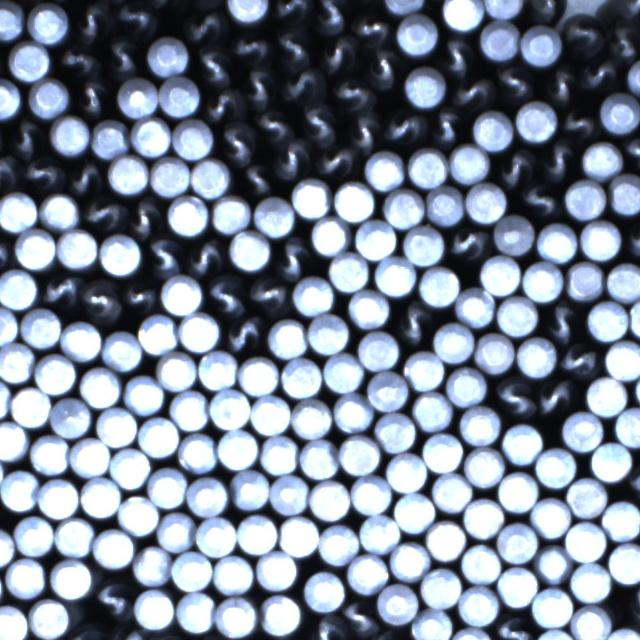tool: (104, 329, 146, 372), (27, 597, 70, 639), (186, 474, 229, 516), (565, 178, 608, 220), (419, 264, 462, 306), (493, 214, 536, 256), (521, 259, 563, 301), (515, 100, 557, 142), (579, 218, 621, 260), (137, 416, 179, 458), (216, 596, 258, 638), (403, 66, 445, 108), (80, 365, 122, 407), (308, 312, 350, 354), (98, 232, 140, 274), (303, 570, 345, 612), (585, 298, 628, 339), (165, 194, 208, 235), (9, 40, 52, 81), (309, 479, 352, 520), (147, 36, 190, 77), (396, 13, 439, 54), (382, 186, 426, 226), (534, 446, 578, 486), (562, 409, 604, 450), (333, 180, 375, 221), (5, 558, 47, 599), (208, 389, 250, 430), (466, 182, 508, 223), (130, 115, 172, 156), (498, 295, 540, 336), (10, 386, 51, 428), (50, 396, 92, 437), (280, 357, 322, 398), (338, 434, 380, 475), (34, 353, 76, 394), (80, 475, 121, 517), (514, 335, 556, 376), (536, 221, 578, 262), (117, 76, 159, 117), (14, 227, 56, 268), (217, 428, 259, 469), (408, 146, 449, 188), (50, 114, 91, 156), (324, 350, 366, 391), (520, 24, 562, 65), (292, 273, 334, 314), (27, 3, 69, 44), (254, 195, 296, 236), (403, 224, 445, 265), (110, 446, 152, 487), (565, 519, 607, 560), (376, 583, 418, 624), (91, 528, 134, 568), (49, 560, 92, 600), (39, 476, 80, 517), (20, 306, 61, 347), (319, 524, 360, 565), (54, 515, 95, 556), (530, 497, 571, 538), (261, 594, 302, 635), (394, 492, 436, 532), (237, 513, 279, 553), (329, 250, 371, 290), (355, 219, 397, 259), (473, 110, 515, 150), (14, 514, 54, 556), (570, 562, 612, 602), (172, 550, 214, 590), (364, 150, 406, 190), (584, 374, 626, 414), (531, 586, 573, 626), (229, 229, 271, 269), (590, 442, 632, 482), (160, 273, 202, 313), (347, 552, 389, 592), (212, 554, 254, 594), (237, 356, 279, 396), (434, 322, 476, 362), (256, 550, 298, 590), (460, 404, 502, 444), (26, 78, 68, 118), (123, 373, 165, 413), (565, 476, 607, 516), (176, 592, 216, 634), (359, 330, 401, 370), (359, 513, 401, 553), (498, 470, 540, 510), (463, 498, 505, 538), (501, 422, 543, 462), (70, 436, 111, 476), (252, 393, 292, 434), (291, 178, 331, 219), (57, 228, 98, 268), (196, 514, 236, 555), (475, 331, 515, 372), (62, 321, 103, 361), (449, 144, 490, 184), (138, 314, 178, 355), (107, 155, 148, 195), (158, 76, 199, 116), (151, 155, 191, 196), (135, 590, 176, 630), (385, 450, 426, 490), (292, 398, 333, 438), (156, 351, 197, 391), (118, 495, 159, 535), (132, 544, 172, 585), (457, 584, 498, 624), (172, 118, 213, 158), (375, 410, 416, 450), (498, 566, 538, 607), (446, 365, 487, 405), (96, 406, 137, 446), (479, 256, 520, 296), (180, 312, 221, 352), (28, 433, 68, 474), (423, 432, 464, 472), (499, 521, 539, 562), (403, 351, 444, 391), (426, 518, 466, 559), (464, 446, 505, 486), (148, 466, 187, 508), (372, 257, 414, 296), (280, 514, 320, 554), (170, 390, 210, 430), (300, 438, 340, 478), (267, 318, 307, 358), (197, 350, 237, 390), (421, 568, 461, 608), (230, 468, 270, 508), (455, 288, 495, 328), (350, 474, 390, 514), (192, 157, 232, 197), (368, 370, 408, 410), (480, 20, 520, 60), (412, 391, 452, 431), (0, 190, 39, 231), (601, 91, 640, 132), (566, 260, 605, 301), (460, 543, 501, 582), (333, 393, 374, 432), (0, 468, 38, 510), (348, 288, 390, 326), (260, 436, 300, 475), (391, 541, 431, 580), (312, 216, 352, 255), (177, 432, 216, 472), (157, 510, 196, 550), (434, 472, 474, 511), (428, 185, 466, 226), (581, 141, 622, 179), (0, 266, 37, 308), (602, 499, 640, 539), (270, 474, 308, 514), (210, 195, 250, 233), (39, 192, 79, 230), (92, 118, 130, 158), (604, 338, 640, 378), (571, 605, 612, 640), (606, 260, 640, 301), (410, 608, 453, 640), (0, 341, 34, 381), (608, 541, 640, 582), (609, 174, 640, 216), (534, 546, 569, 582), (440, 0, 483, 29), (0, 421, 29, 462), (614, 406, 640, 446), (0, 603, 27, 640), (0, 78, 23, 120), (0, 0, 24, 39), (226, 0, 268, 21), (0, 305, 19, 345), (483, 0, 523, 16), (0, 525, 15, 565), (451, 626, 492, 640), (383, 0, 427, 13), (626, 58, 640, 98), (0, 377, 11, 423), (629, 297, 640, 342), (604, 626, 639, 640), (536, 628, 575, 640), (633, 374, 640, 412)
tool_b: (88, 576, 132, 622), (492, 375, 537, 419), (79, 276, 121, 321), (561, 12, 602, 57), (203, 273, 246, 315), (17, 154, 63, 192), (143, 234, 184, 276), (103, 37, 143, 79), (192, 46, 232, 88), (538, 140, 578, 182), (74, 0, 113, 43), (518, 180, 562, 218), (329, 75, 374, 112), (246, 273, 288, 312), (382, 108, 424, 147), (272, 25, 311, 67), (218, 121, 256, 164), (299, 101, 337, 144), (80, 194, 124, 231), (498, 147, 538, 187), (396, 302, 433, 345), (448, 74, 492, 110), (494, 64, 534, 103), (536, 377, 576, 416), (125, 195, 163, 236), (39, 270, 80, 308), (224, 316, 265, 354), (280, 68, 323, 104), (8, 118, 46, 158), (274, 138, 311, 179), (558, 341, 599, 378), (274, 236, 310, 278), (314, 144, 356, 180), (187, 238, 226, 276), (579, 56, 619, 93), (54, 43, 96, 78), (182, 9, 224, 44), (440, 34, 475, 76), (242, 65, 276, 108), (341, 601, 379, 639), (320, 34, 357, 73), (447, 226, 487, 262), (366, 48, 401, 89), (546, 302, 581, 342), (558, 106, 598, 141), (113, 0, 154, 34), (201, 87, 242, 121), (231, 27, 270, 62), (255, 109, 294, 144), (309, 0, 349, 34), (74, 79, 109, 117), (66, 159, 103, 194), (352, 11, 390, 45), (430, 107, 464, 145), (346, 111, 379, 149), (607, 23, 640, 61), (547, 64, 578, 103), (302, 613, 346, 640), (124, 277, 158, 311), (241, 164, 274, 196), (493, 616, 533, 640), (270, 0, 308, 22), (524, 0, 566, 19), (63, 625, 114, 640), (0, 153, 18, 193), (622, 134, 640, 172), (106, 625, 149, 640), (623, 224, 640, 261), (616, 0, 640, 21), (0, 233, 12, 272)
